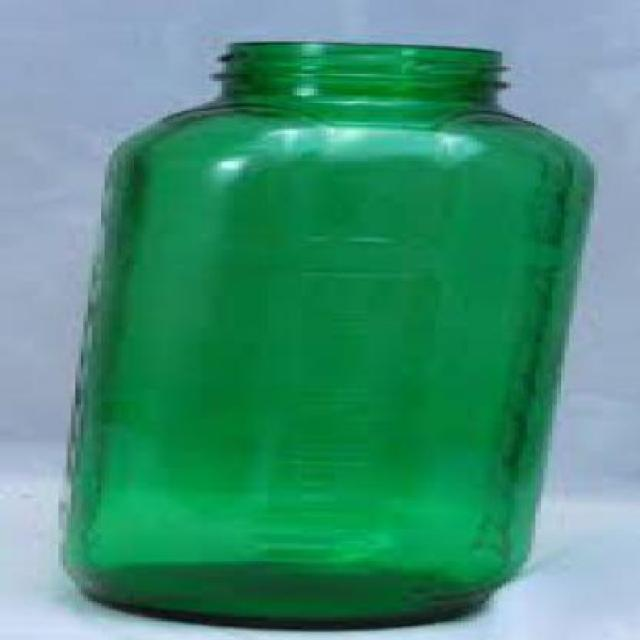GLASS: (58, 39, 594, 628)
